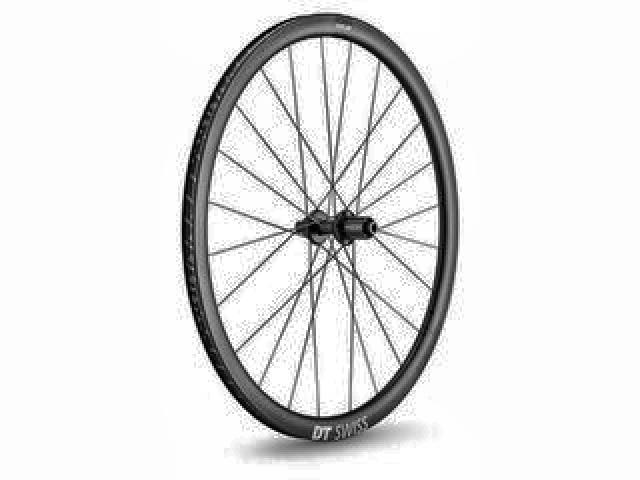wheel: (178, 13, 465, 446)
